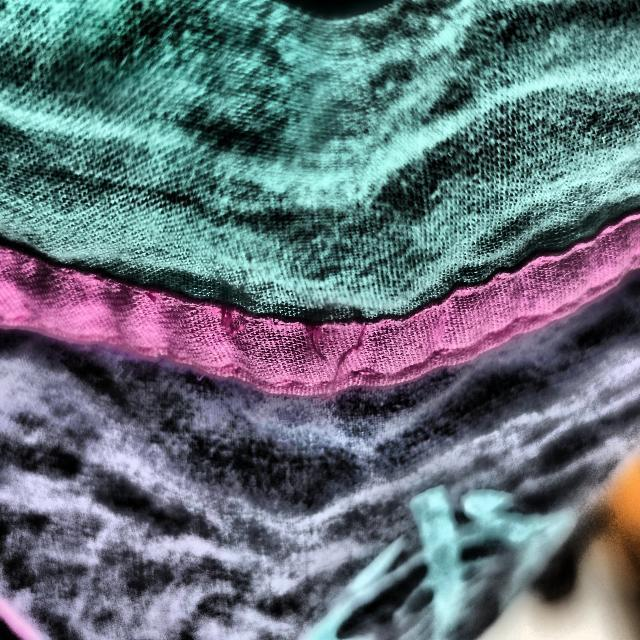gray stitch: (295, 297, 398, 422), (209, 293, 266, 347)
